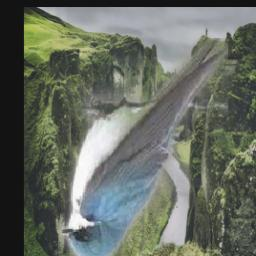Swallow: (58, 38, 228, 256)
